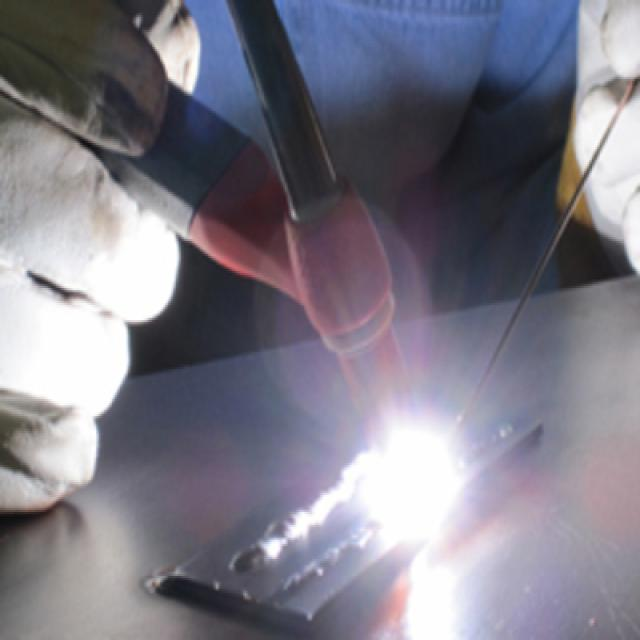welding: (361, 422, 454, 537)
